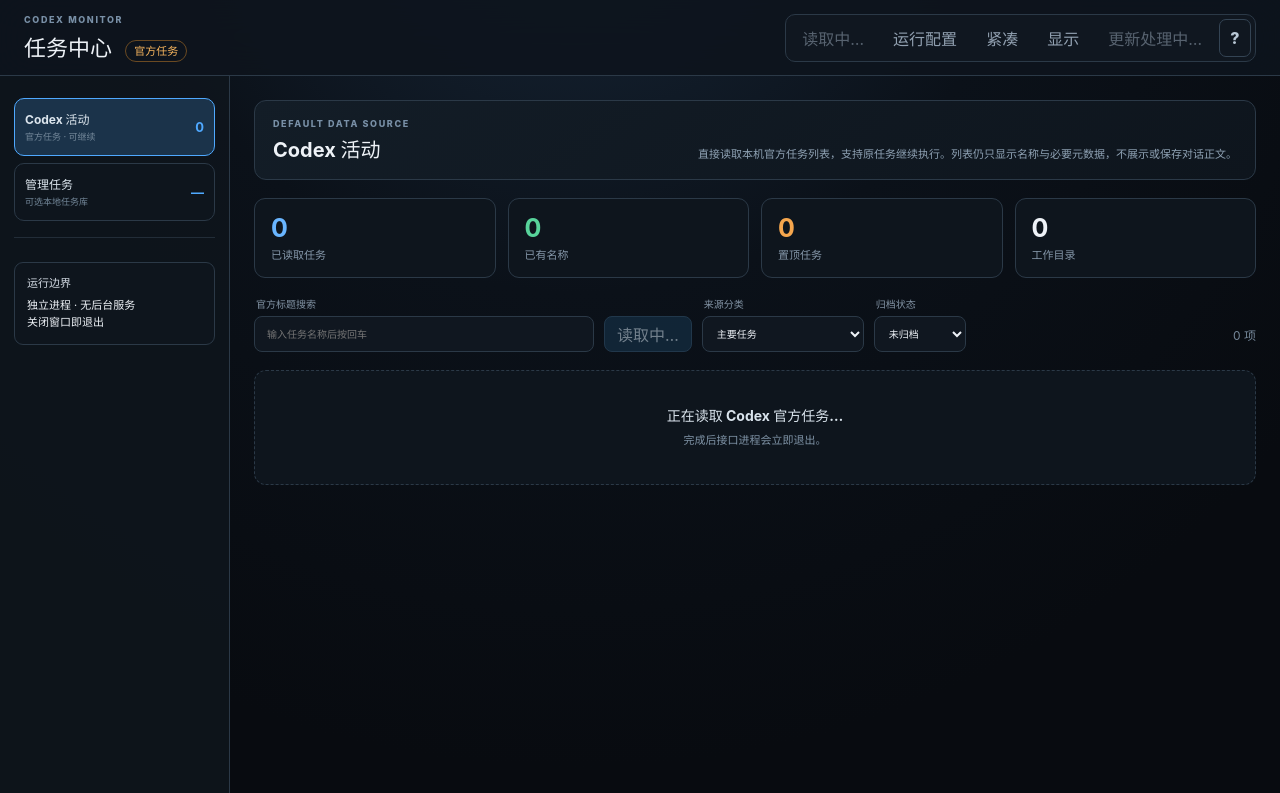
Test: 任务中心核心流程 › 评论事件并发冲突时不覆盖且保留草稿
Click the button "管理任务 可选本地任务库 —" at point(114, 192), box x1=14 y1=163 x2=215 y2=221
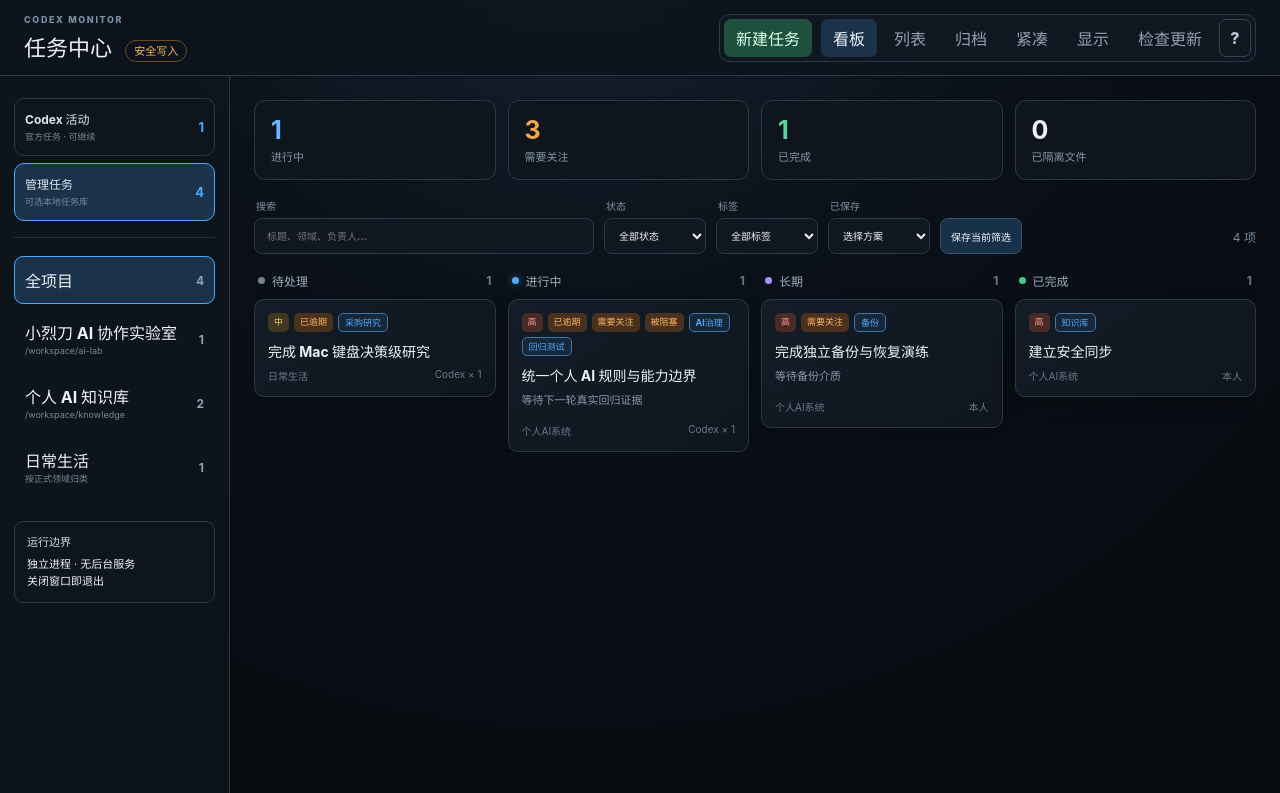
Result: the heading "统一个人 AI 规则与能力边界" is shown at x1=522 y1=367 x2=696 y2=384
Click the button "统一个人 AI 规则与能力边界" at point(628, 375), box x1=508 y1=299 x2=749 y2=452
(page scrolled)
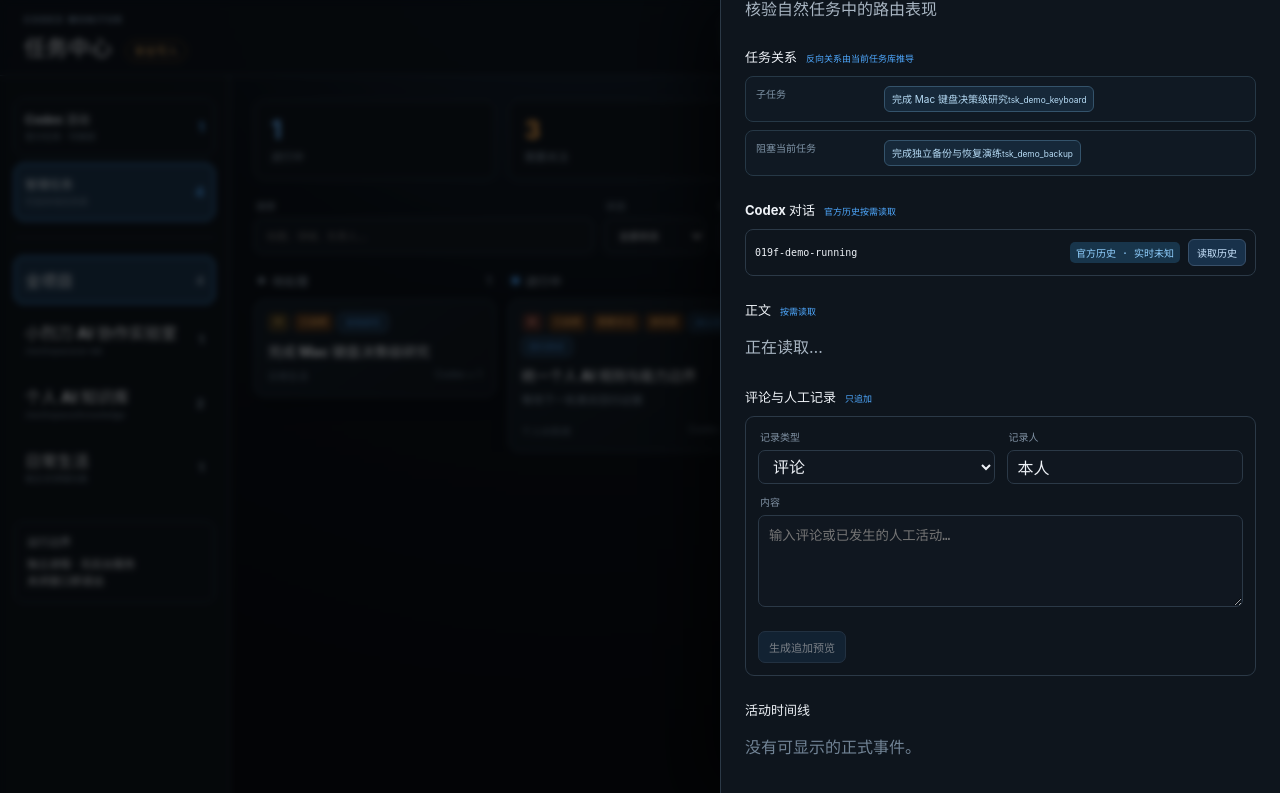
Type "冲突后仍保留" into the text box named "记录内容" at point(1000, 561), box x1=758 y1=515 x2=1243 y2=607
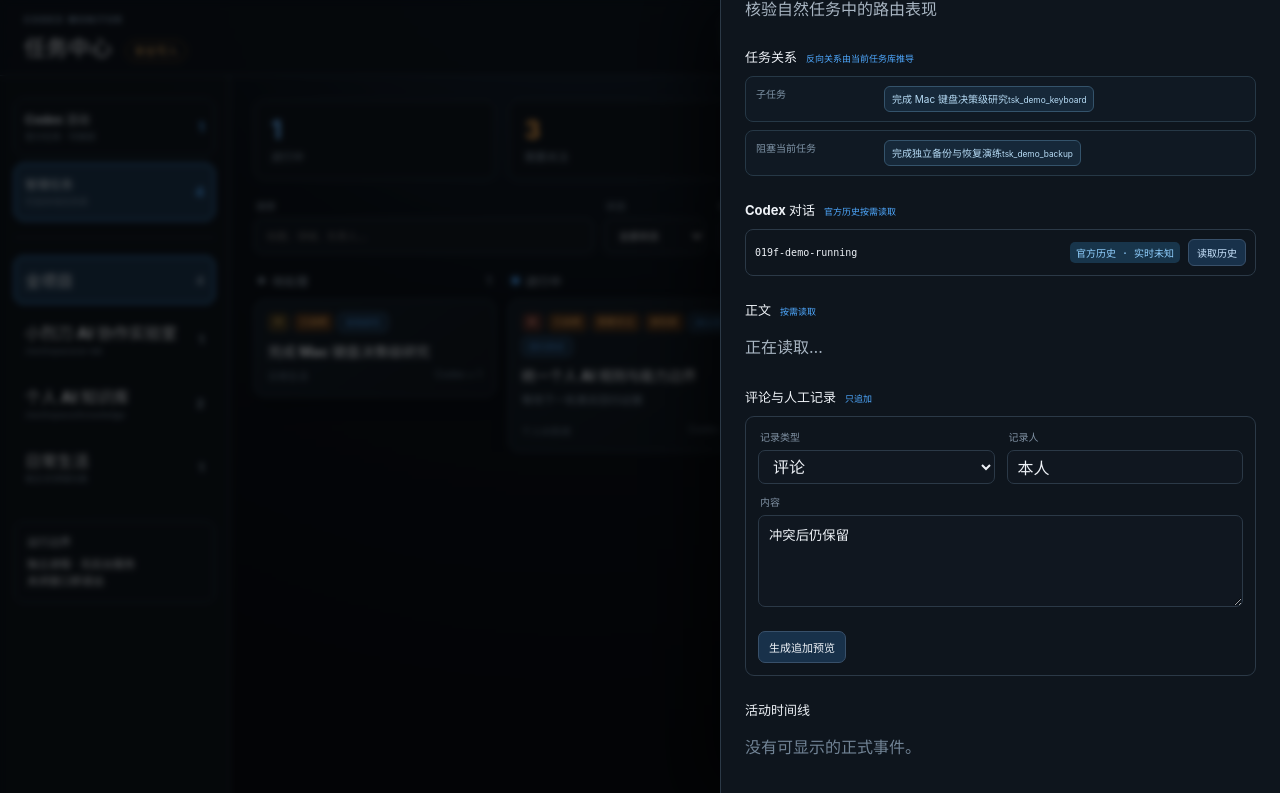
Click the button "生成追加预览" at point(802, 647), box x1=758 y1=631 x2=846 y2=663
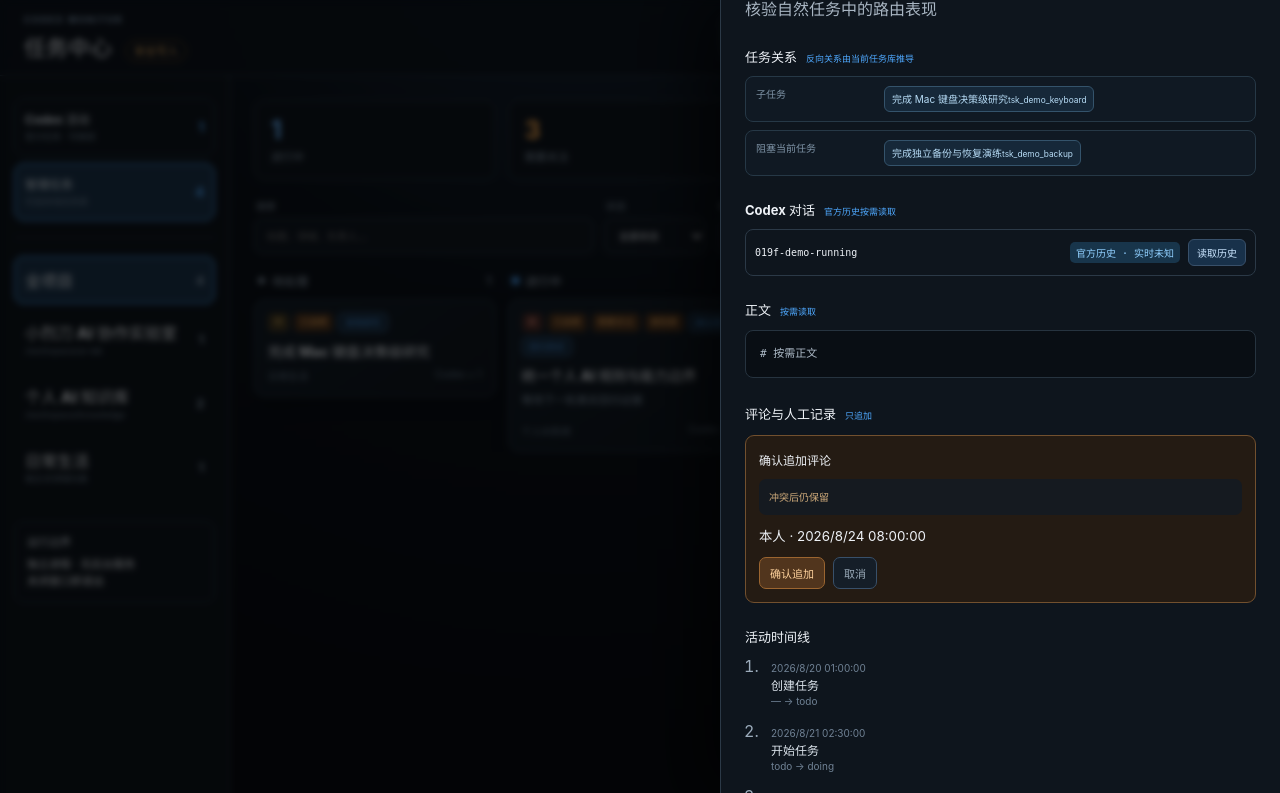
Click the button "确认追加" at point(792, 573), box x1=759 y1=557 x2=825 y2=589
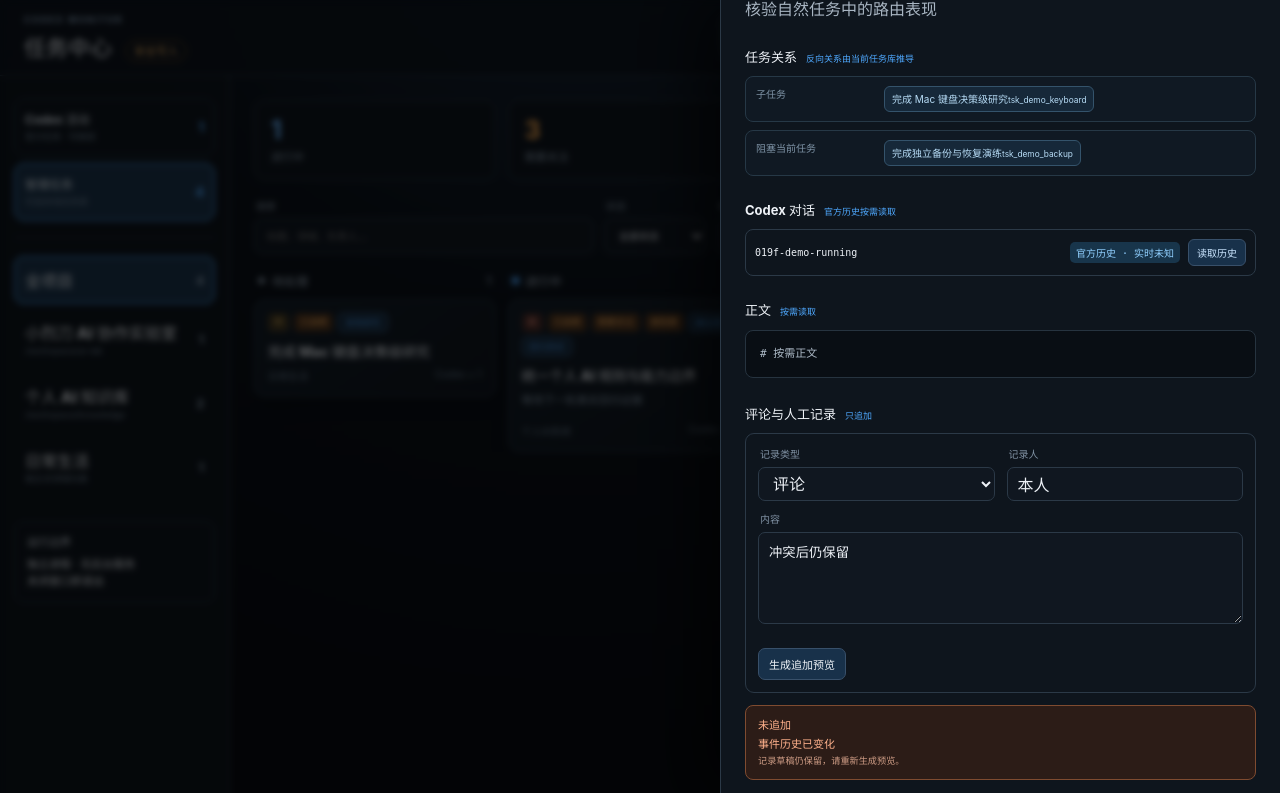
Result: the message shows "记录草稿仍保留" at x1=758 y1=755 x2=904 y2=766
Result: the text box named "记录内容" holds "冲突后仍保留" at x1=758 y1=532 x2=1243 y2=624
